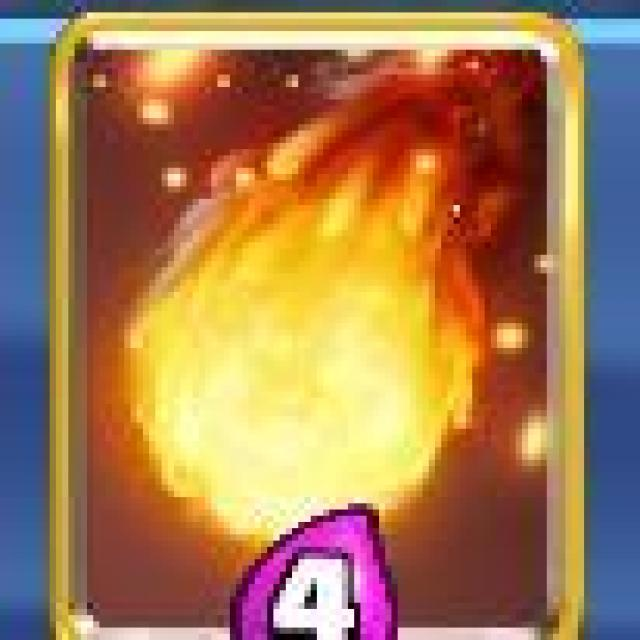Fireball: (45, 13, 585, 640)
